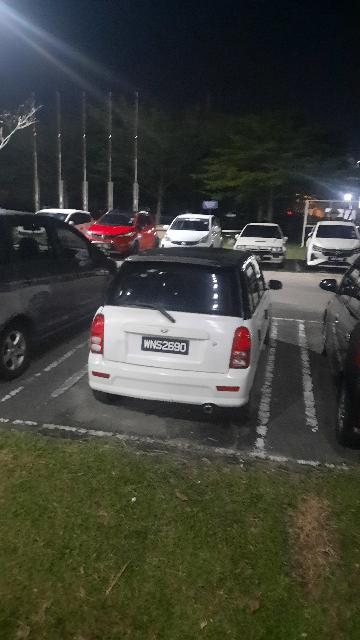License_Plate: (140, 335, 191, 357)
car: (89, 246, 284, 415)
